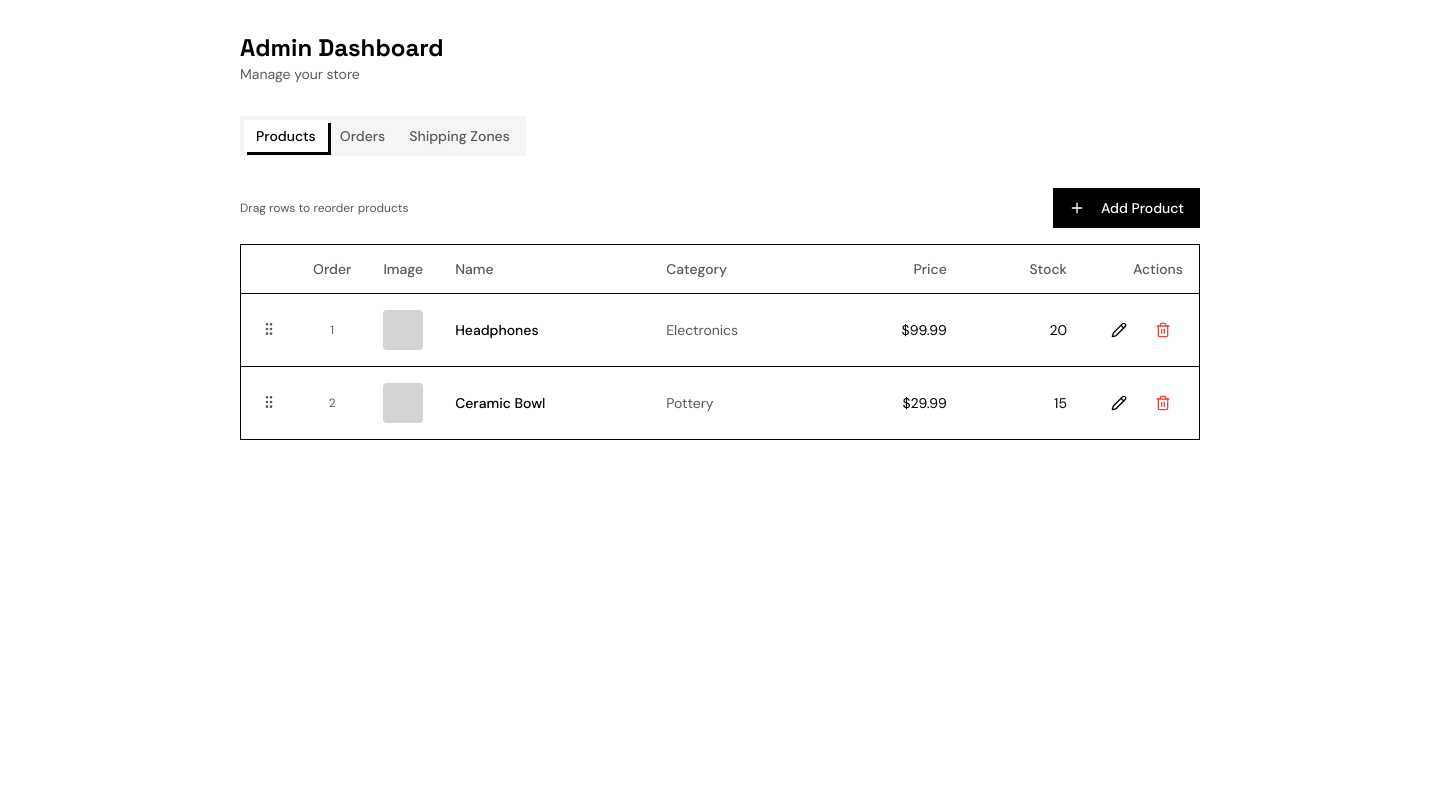
Test: AdminPage › opens add product dialog when clicking Add Product
Step 1. Click the button "Add Product" → (1126, 208), box x1=1053 y1=188 x2=1200 y2=228
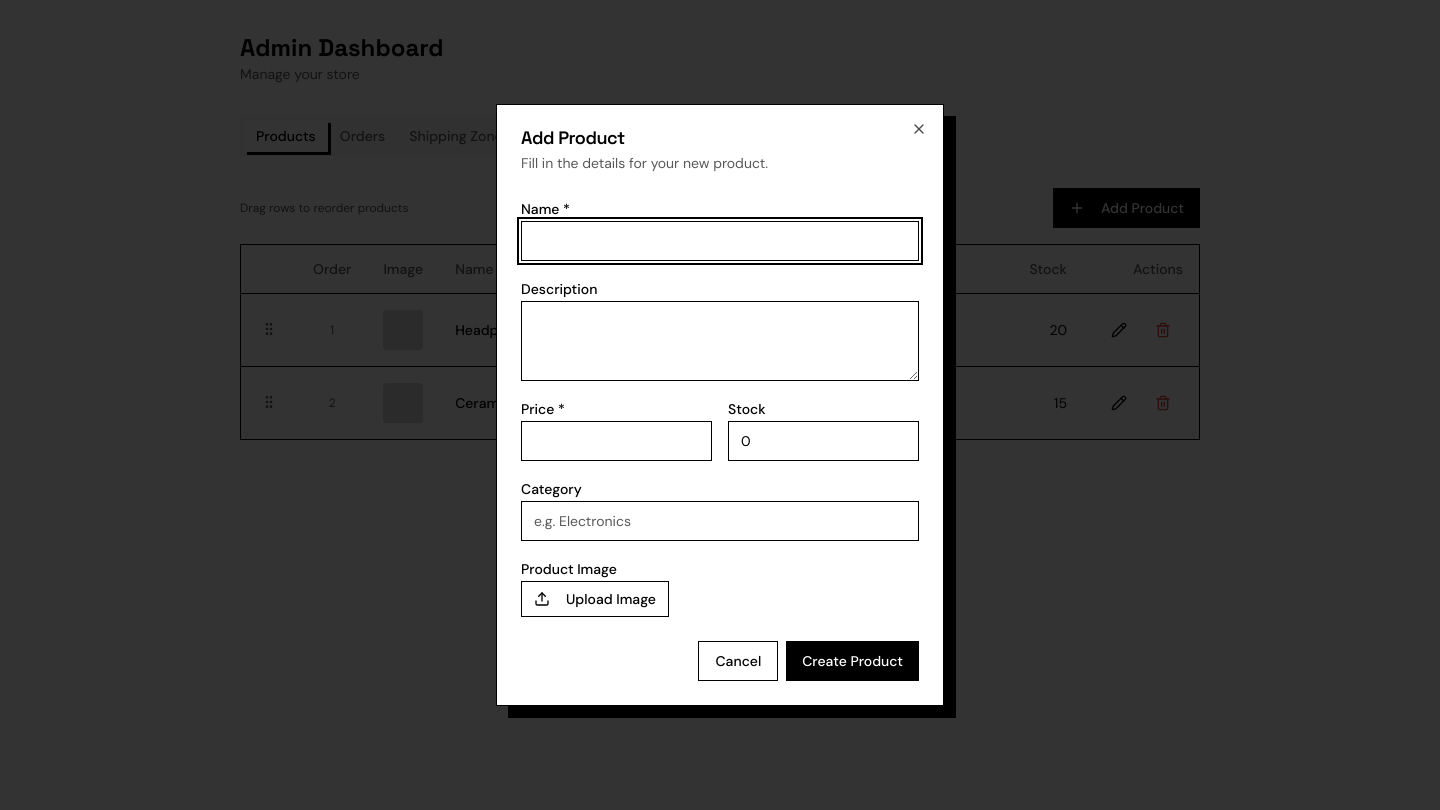
Check: the text "Fill in the details for your new product." is shown, box x1=521 y1=154 x2=768 y2=172
Check: the button "Create Product" is shown, box x1=786 y1=641 x2=919 y2=681
